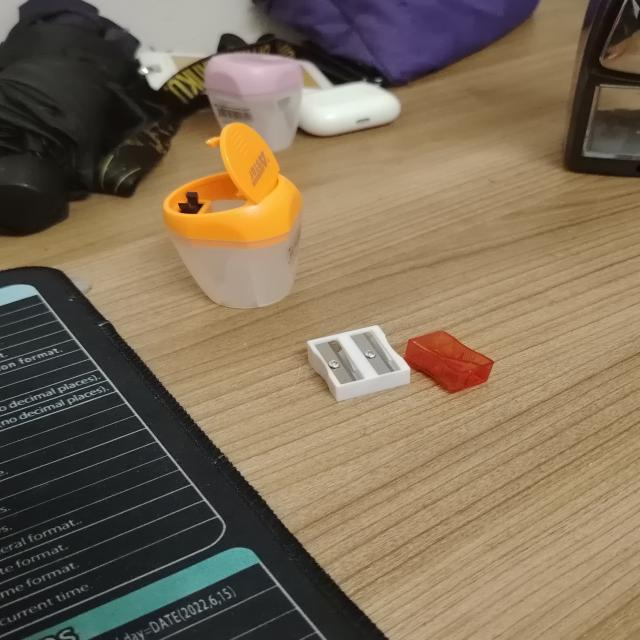sharpener: (164, 123, 302, 308), (564, 0, 640, 177), (204, 52, 303, 152), (307, 325, 410, 401), (404, 331, 493, 392)
